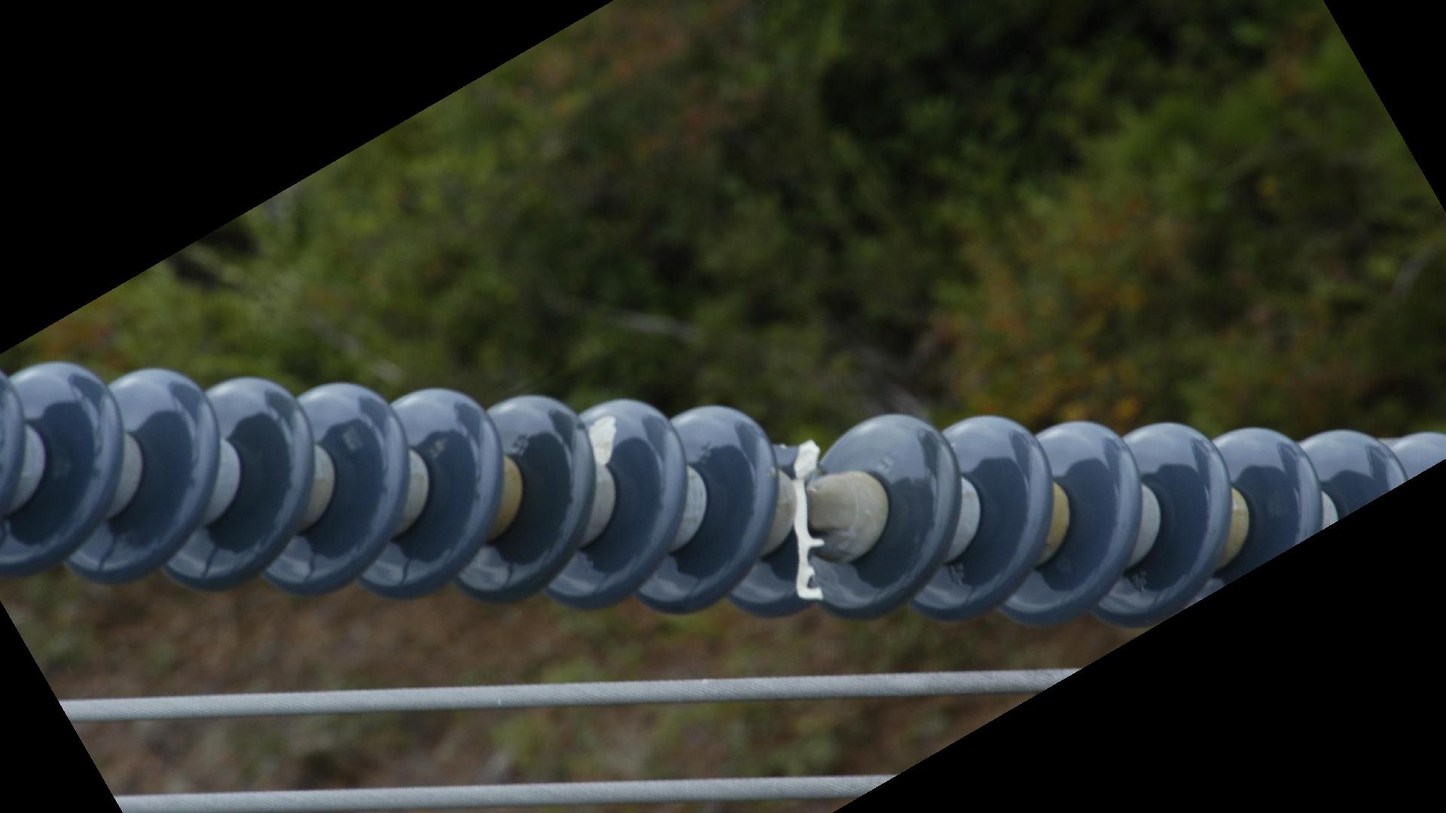insulator: (1, 352, 1446, 635)
insulator_breakage: (771, 434, 834, 611)
